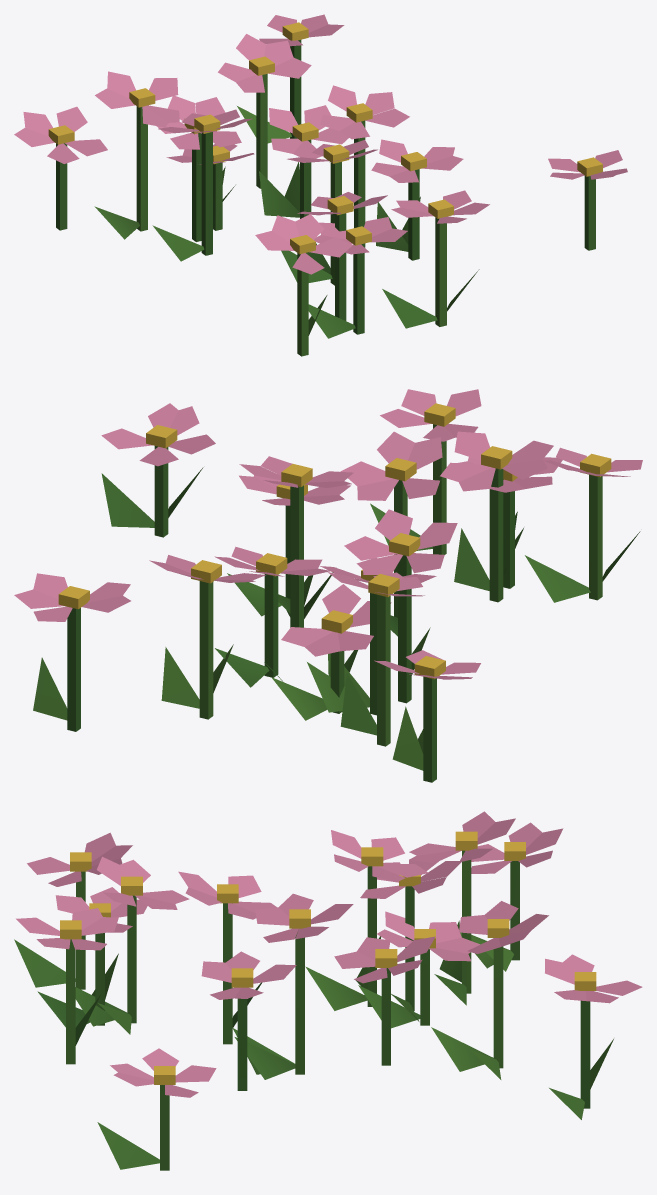
The model's file is FlowersPink.glb.
The picture shows the model from 3 angles, top to bottom: view 1: azimuth 30°, elevation 25°; view 2: azimuth 150°, elevation 25°; view 3: azimuth 270°, elevation 25°; orthographic projection. The views are drawn at different scales.
Visible parts, largest first — view 1: Petals.001, Stems.001; view 2: Petals.001, Stems.001; view 3: Petals.001, Stems.001.
Part boxes in pixels (box(x1,y1,x2,y2)): Petals.001: box(14, 14, 627, 274); Stems.001: box(56, 40, 595, 356); Petals.001: box(14, 389, 642, 679); Stems.001: box(33, 424, 640, 782); Petals.001: box(16, 811, 642, 1097); Stems.001: box(14, 850, 613, 1170).
Bounding box in the file's own units: 4.55 × 1.35 × 4.62.
